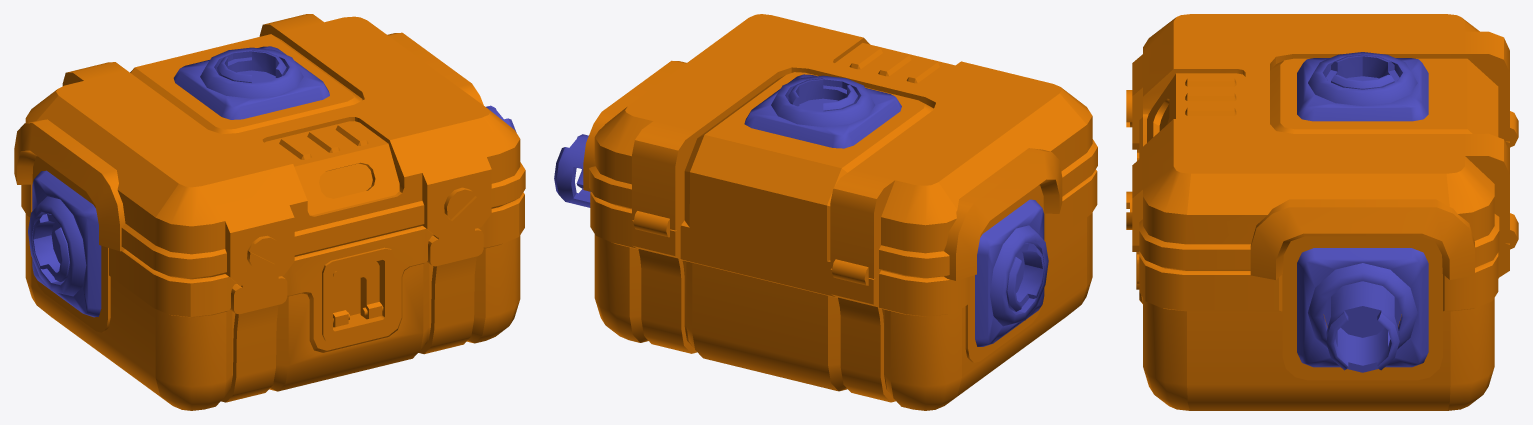
File: obj_interactive_chest_pose2.fbx
3 views of the same model, side by side, from view 1: azimuth 30°, elevation 25°; view 2: azimuth 150°, elevation 25°; view 3: azimuth 270°, elevation 25° (orthographic). The views are drawn at different scales.
Parts seen in each view (by area): view 1: obj_interactive_chest_pose2; view 2: obj_interactive_chest_pose2; view 3: obj_interactive_chest_pose2.
Boxes of the visible parts, x1,y1,x2,y2 form: obj_interactive_chest_pose2: (14, 14, 525, 410); obj_interactive_chest_pose2: (554, 14, 1097, 410); obj_interactive_chest_pose2: (1126, 14, 1518, 410).
Size of the model in its own units: 6.35 by 3.32 by 4.46.
